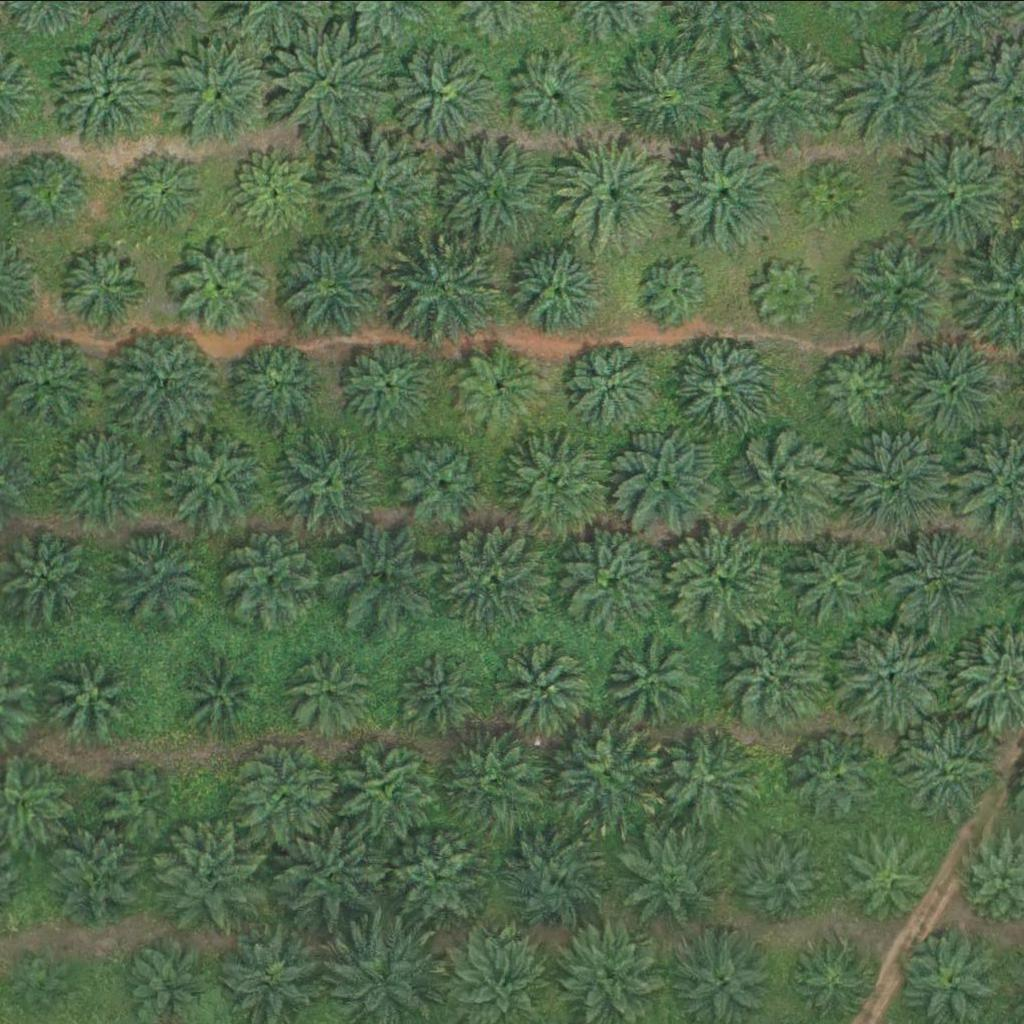Kelapa_Sawit: (161, 423, 275, 536), (107, 323, 221, 436), (277, 226, 391, 339), (390, 234, 504, 347), (889, 713, 1003, 826), (155, 817, 268, 930), (442, 517, 555, 630), (561, 522, 674, 635), (499, 228, 612, 341), (561, 136, 674, 249), (50, 37, 163, 150), (166, 36, 279, 149), (838, 43, 951, 156), (672, 134, 785, 247), (898, 137, 1011, 250), (727, 429, 840, 542), (840, 425, 953, 538), (665, 524, 778, 637), (785, 522, 898, 635), (322, 129, 436, 241), (434, 132, 548, 244), (502, 35, 616, 147), (614, 38, 728, 150), (835, 617, 949, 729), (620, 821, 734, 933), (279, 818, 392, 930), (497, 821, 610, 933), (449, 717, 562, 829), (321, 518, 434, 630), (268, 425, 381, 537), (499, 428, 612, 540), (272, 28, 385, 140), (385, 34, 498, 146), (727, 35, 840, 147), (844, 234, 957, 346), (671, 326, 784, 438), (902, 332, 1015, 444), (612, 426, 725, 538), (887, 522, 1000, 634), (719, 616, 832, 728), (553, 720, 666, 832), (51, 822, 152, 922), (392, 823, 493, 923), (237, 734, 338, 834), (334, 736, 435, 836), (176, 644, 277, 744), (494, 637, 595, 737), (217, 528, 318, 628), (388, 431, 489, 531), (603, 631, 704, 731), (104, 520, 204, 620), (52, 428, 152, 528), (226, 334, 326, 434), (340, 334, 440, 434), (172, 237, 272, 337), (662, 728, 762, 828), (792, 727, 892, 827), (835, 828, 935, 928), (572, 341, 660, 429), (63, 242, 151, 330), (117, 144, 205, 232), (231, 147, 319, 235), (812, 344, 900, 432), (397, 647, 486, 734), (2, 337, 90, 424), (284, 644, 372, 731), (456, 342, 544, 429), (5, 147, 93, 234), (743, 839, 831, 926), (57, 655, 133, 730), (102, 760, 177, 835), (799, 163, 862, 226), (645, 255, 708, 318), (756, 260, 819, 323), (8, 953, 59, 1003)
